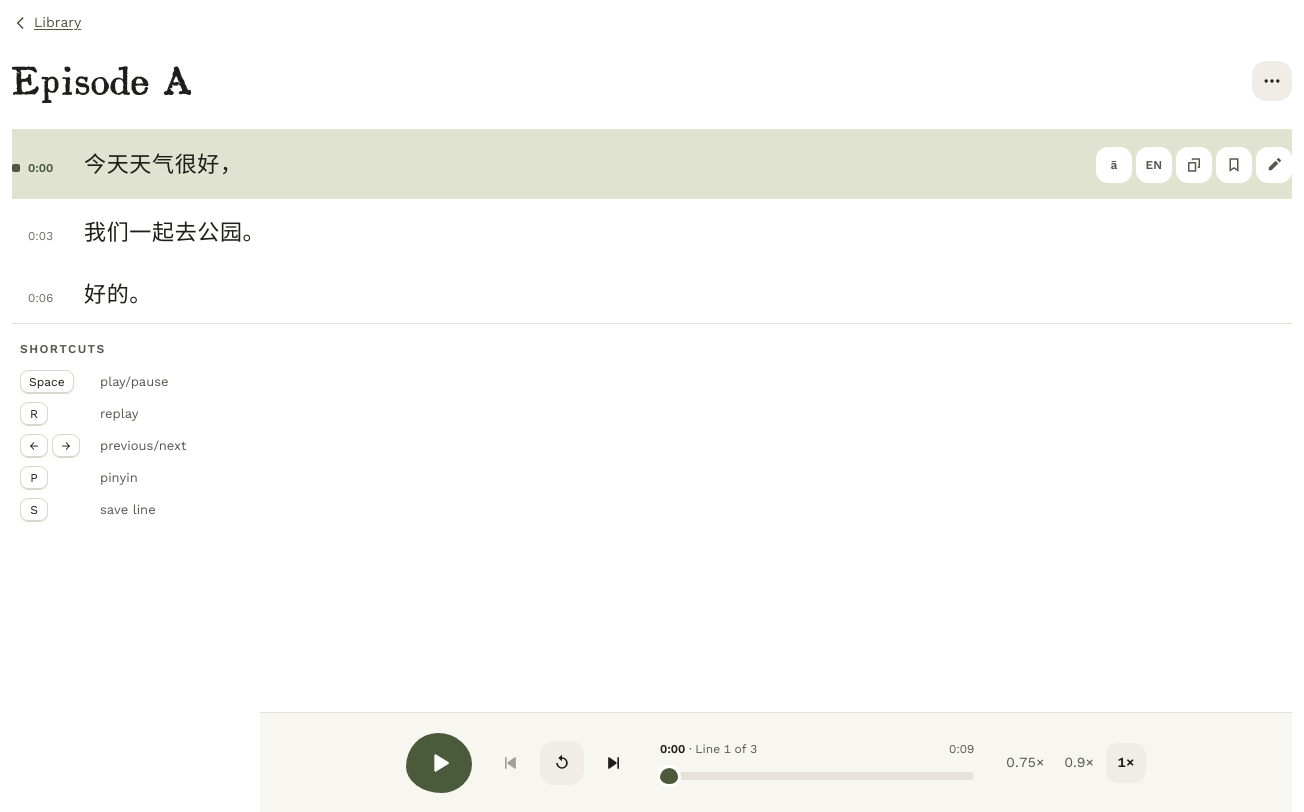
Test case: local English — capability › shows cached English when new requests are off, and only for lines that have it
Click the button "EN" at (1154, 165), box [1136,147,1172,183]
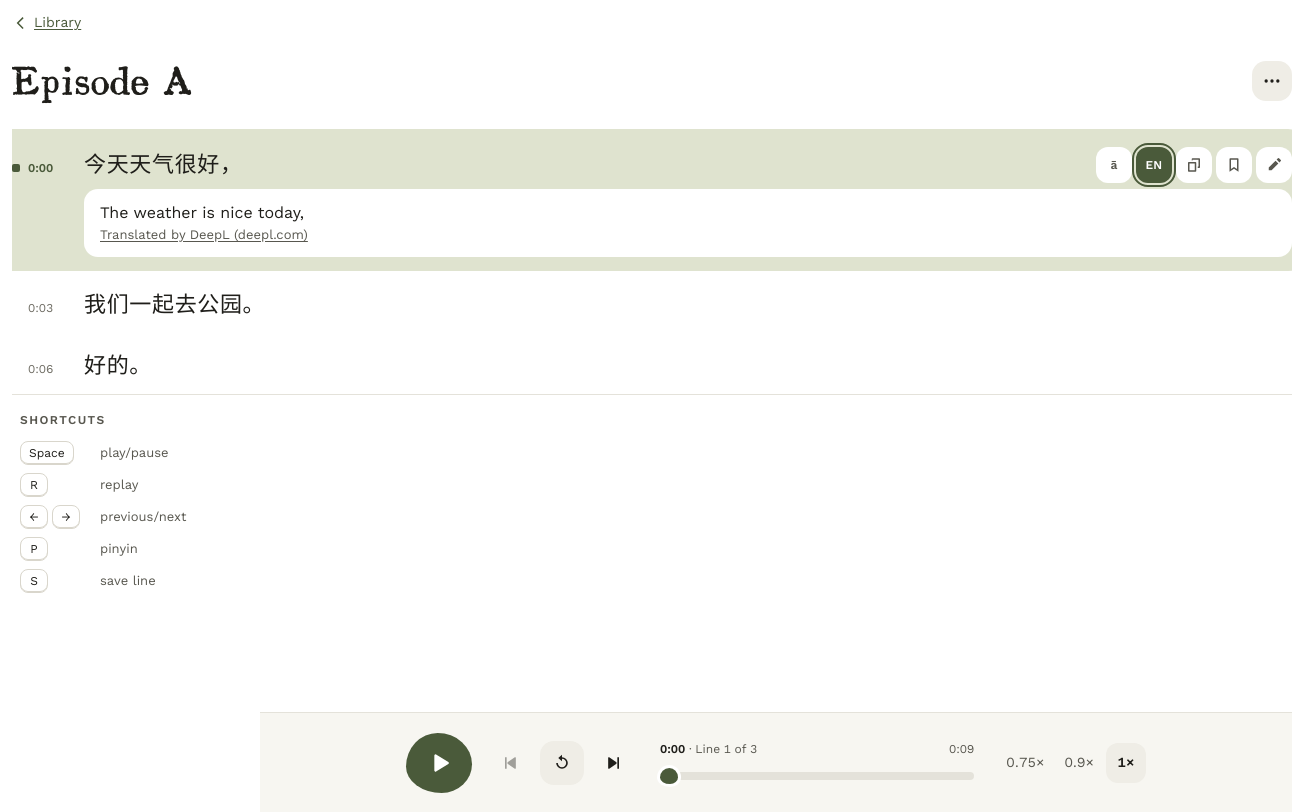
Now the text "The weather is nice today," is shown, box [100,203,304,222]
